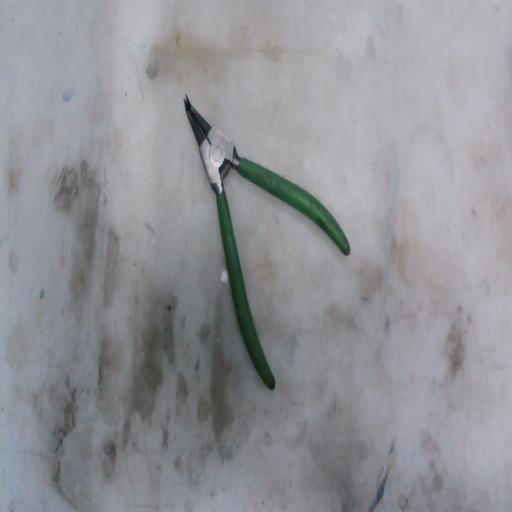tang_scun_hidrolik: (178, 81, 363, 411)
